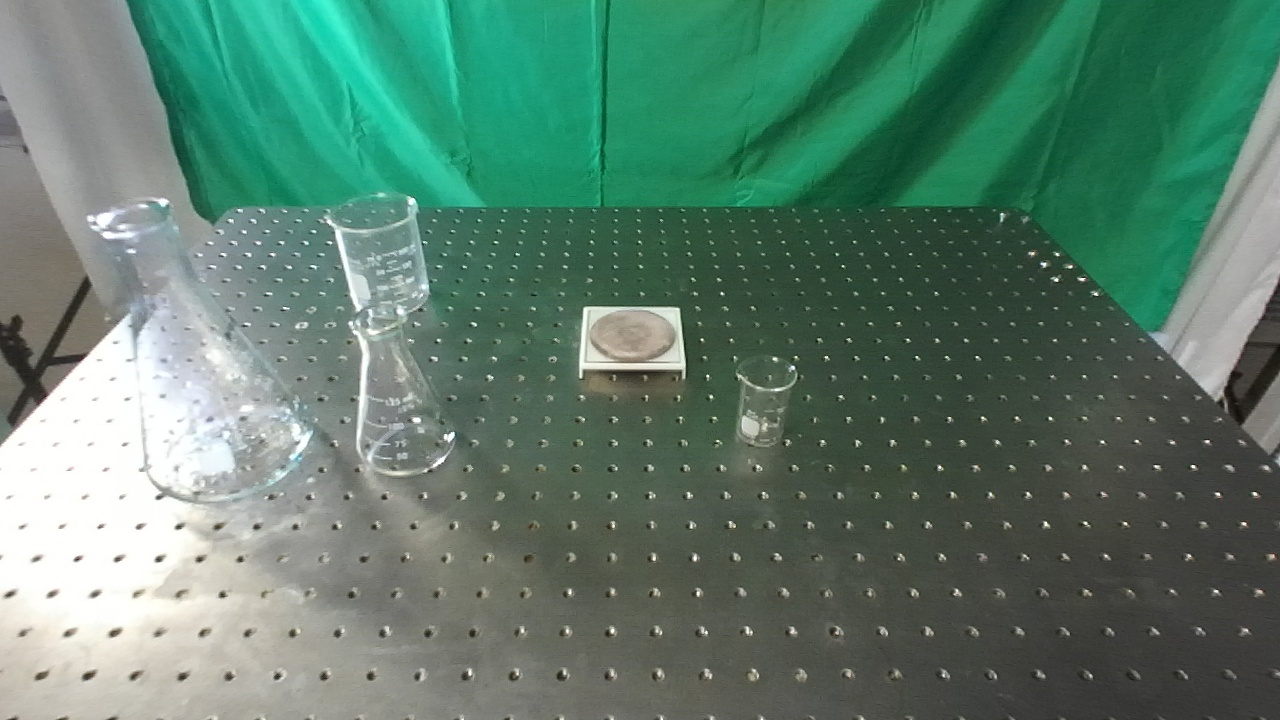glass: (88, 193, 321, 505), (344, 303, 459, 478), (324, 193, 433, 314), (734, 353, 800, 450)
plate: (577, 304, 691, 384)
